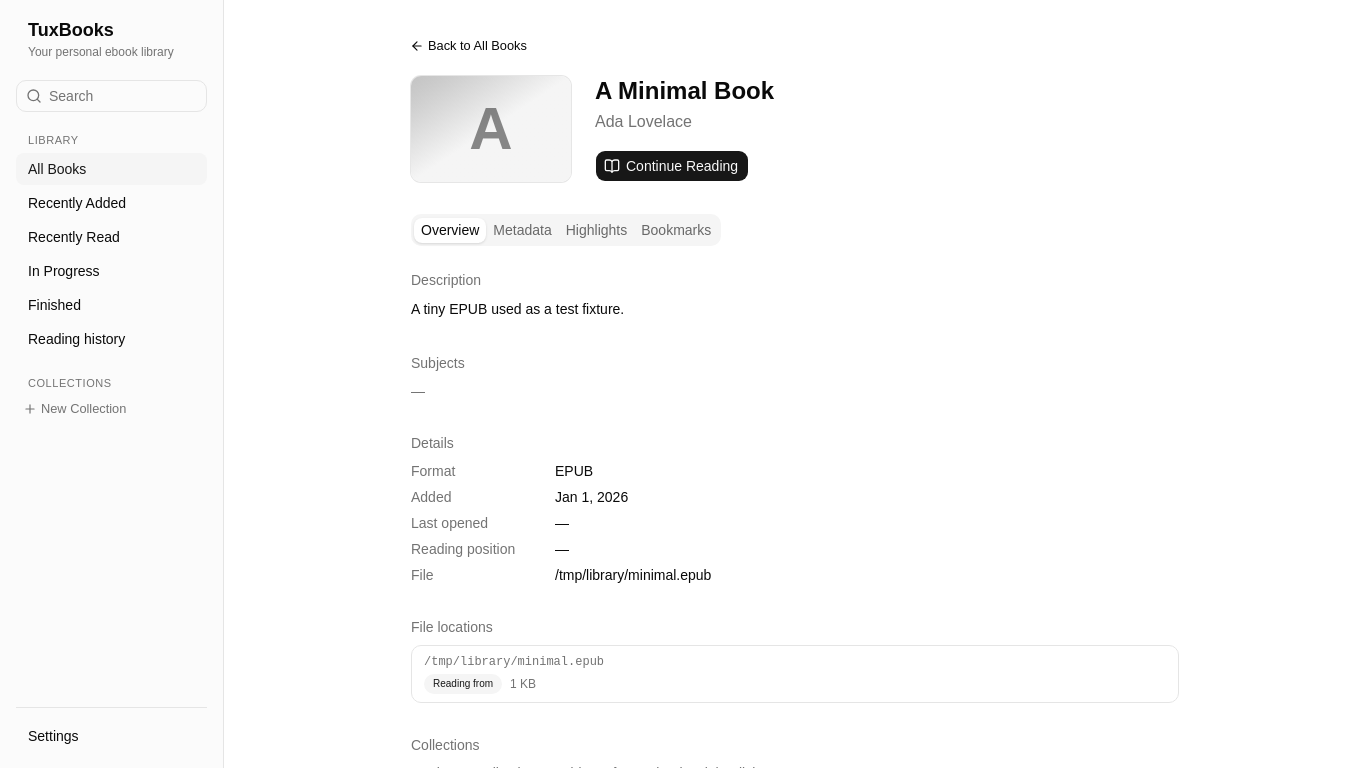
Test: BookDetail › mounts the Metadata panel when its tab is selected
Expected: the element with test id "book-detail" is shown, [411, 32, 1179, 767]
Click the tab with test id "detail-tab-metadata".
click(523, 230)  # box [486, 218, 559, 242]
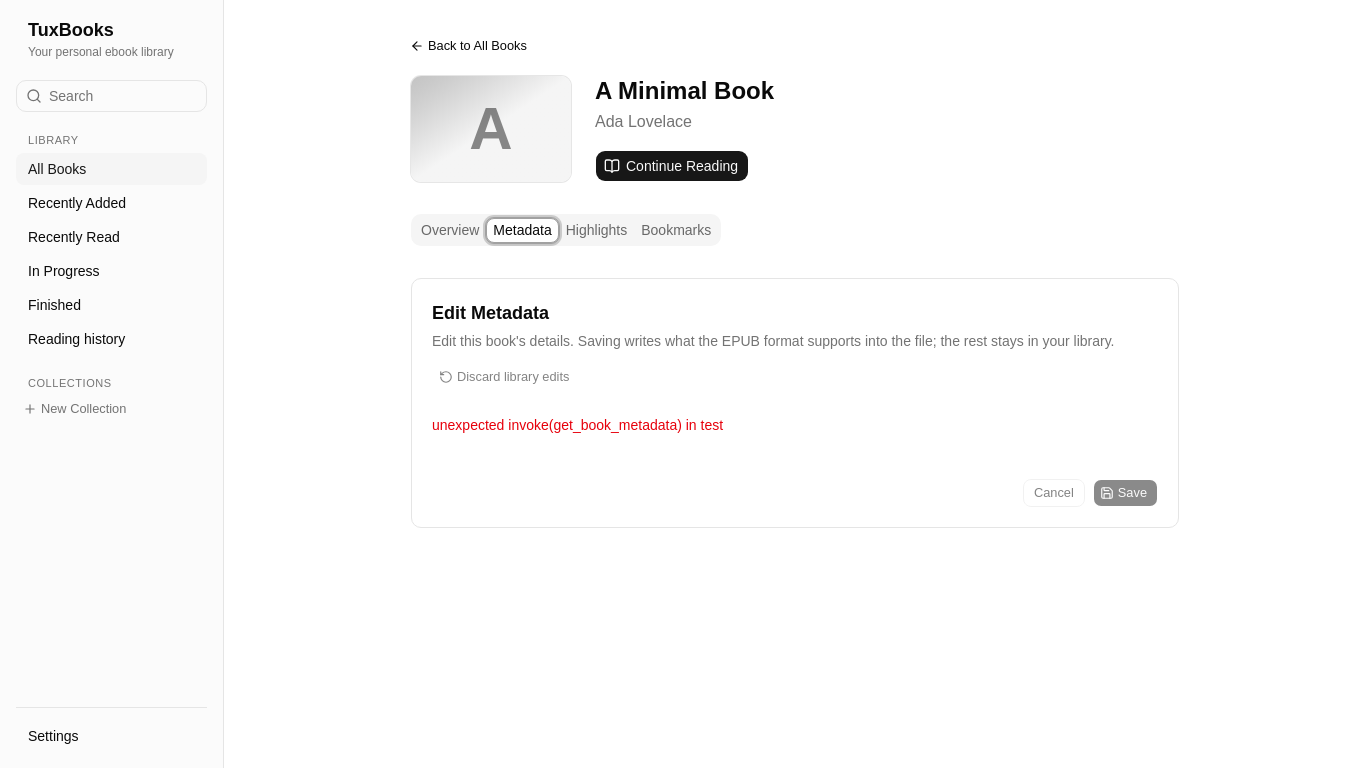
Result: the element with test id "metadata-panel" is shown at [411, 278, 1179, 528]
